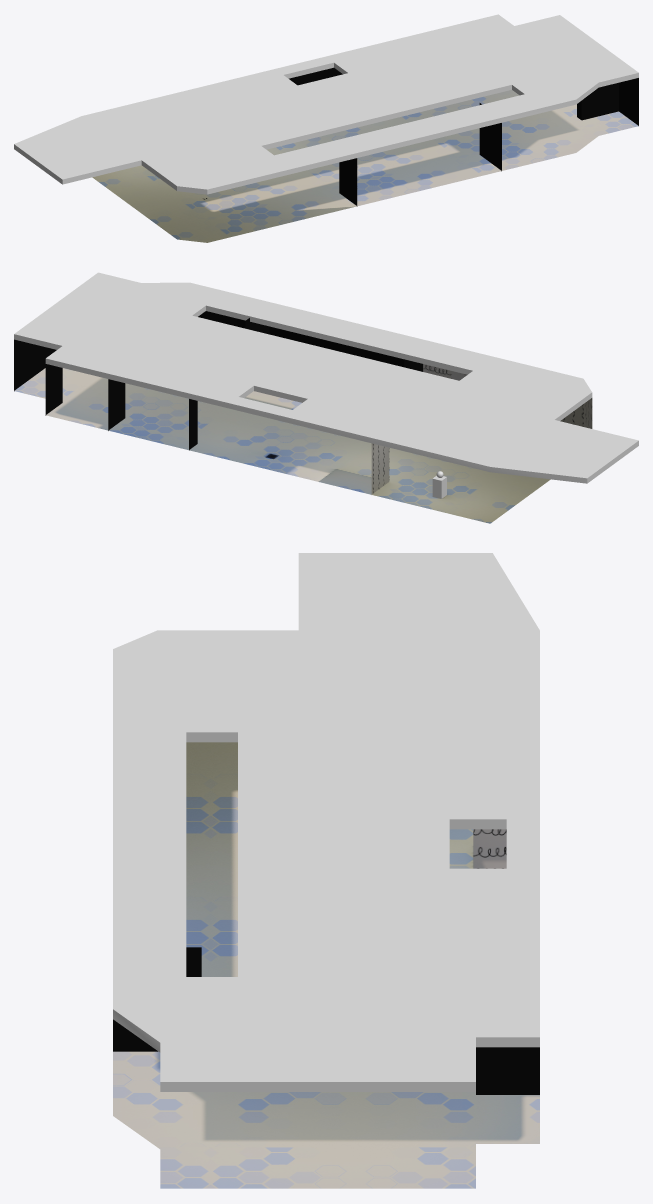
Rendered from Room.gltf.
3 views of the same model, one above another, from view 1: azimuth 30°, elevation 25°; view 2: azimuth 150°, elevation 25°; view 3: azimuth 270°, elevation 25° (orthographic). The views are drawn at different scales.
Parts seen in each view (by area): view 1: Ceiling-Null, Floor, Walls_inside; view 2: Ceiling-Null, Floor, Walls_inside; view 3: Ceiling-Null, Floor, Walls_inside.
Part boxes in pixels (left/top/right/bottom): Ceiling-Null: left=14, top=14, right=638, bottom=194; Floor: left=92, top=90, right=638, bottom=242; Walls_inside: left=289, top=67, right=638, bottom=206; Ceiling-Null: left=14, top=272, right=638, bottom=483; Floor: left=14, top=368, right=550, bottom=523; Walls_inside: left=14, top=311, right=592, bottom=494; Ceiling-Null: left=113, top=553, right=539, bottom=1091; Floor: left=113, top=742, right=539, bottom=1188; Walls_inside: left=113, top=829, right=539, bottom=1094.
Size of the model in its own units: 4515 by 430 by 1540.
Materials: 2 (2 with a texture image).
